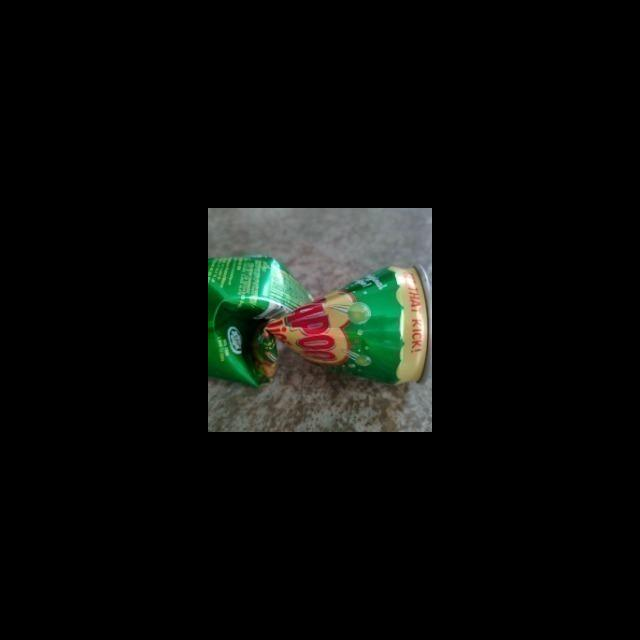metal: (208, 233, 432, 402)
